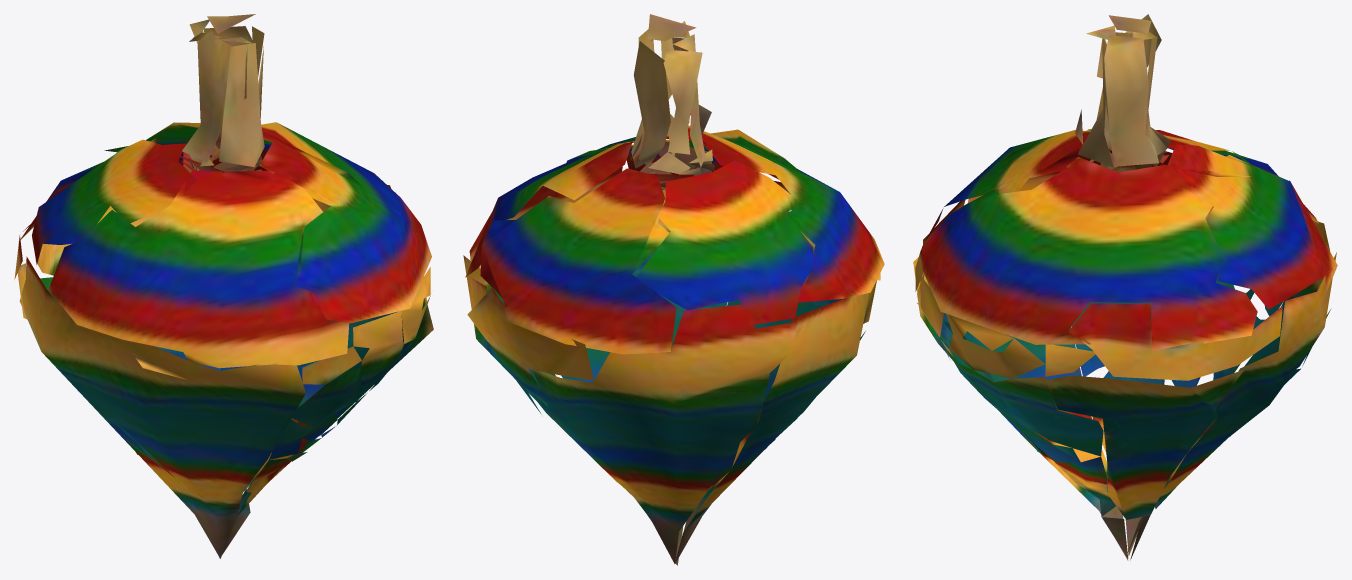
Rendered from kinder_kreisel_lo.glb.
3 views of the same model, side by side, from view 1: azimuth 30°, elevation 25°; view 2: azimuth 150°, elevation 25°; view 3: azimuth 270°, elevation 25° (orthographic).
Parts seen in each view (by area): view 1: Prop; view 2: Prop; view 3: Prop.
Boxes of the visible parts, <box> form: Prop: <box>14,14,433,558</box>; Prop: <box>463,14,884,565</box>; Prop: <box>913,14,1337,560</box>.
Size of the model in its own units: 0.7072 by 0.9891 by 0.6909.
1 material, 1 textured.
